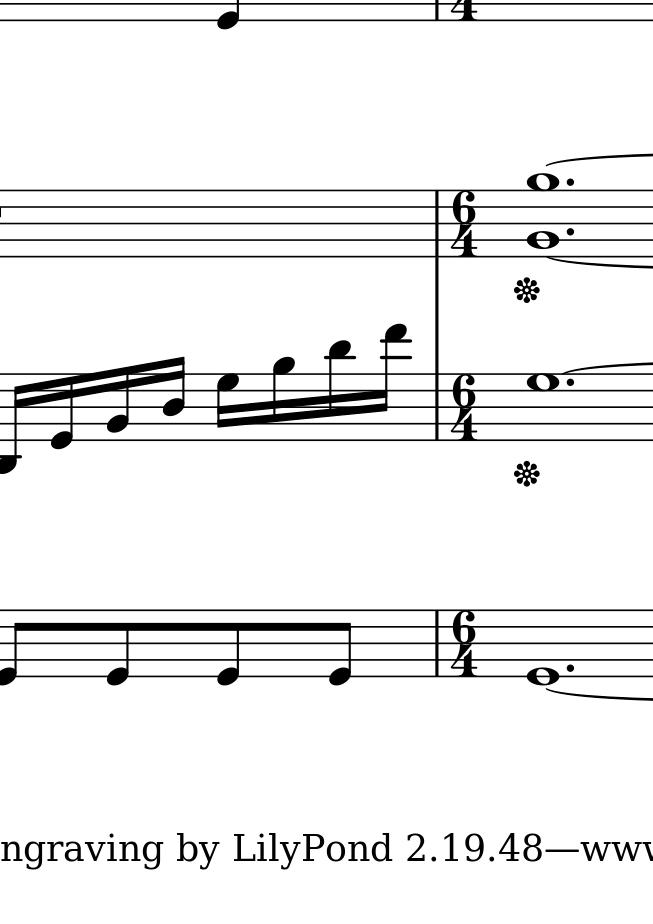16_0: (48, 372, 75, 452)
16_11: (325, 337, 353, 442)
16_13: (376, 323, 411, 443)
16_2: (105, 366, 131, 442)
16_4: (161, 355, 187, 443)
16_7: (214, 370, 239, 441)
16_9: (271, 356, 294, 441)
1_0: (525, 607, 559, 687)
1_2_9: (526, 170, 562, 261)
1_7: (525, 372, 561, 442)
4: (448, 642, 480, 678), (449, 223, 480, 258), (450, 406, 480, 440)
6: (448, 187, 480, 223), (449, 373, 480, 406), (451, 608, 476, 644)
8_0: (215, 608, 242, 688), (105, 607, 131, 688), (328, 608, 353, 688)
Single_barline: (429, 190, 445, 257), (429, 373, 444, 440)
TimeSig: (447, 191, 483, 257), (447, 611, 483, 677), (448, 372, 481, 439)
dot: (564, 224, 577, 239), (563, 175, 578, 187), (564, 661, 576, 675), (564, 376, 576, 389)
